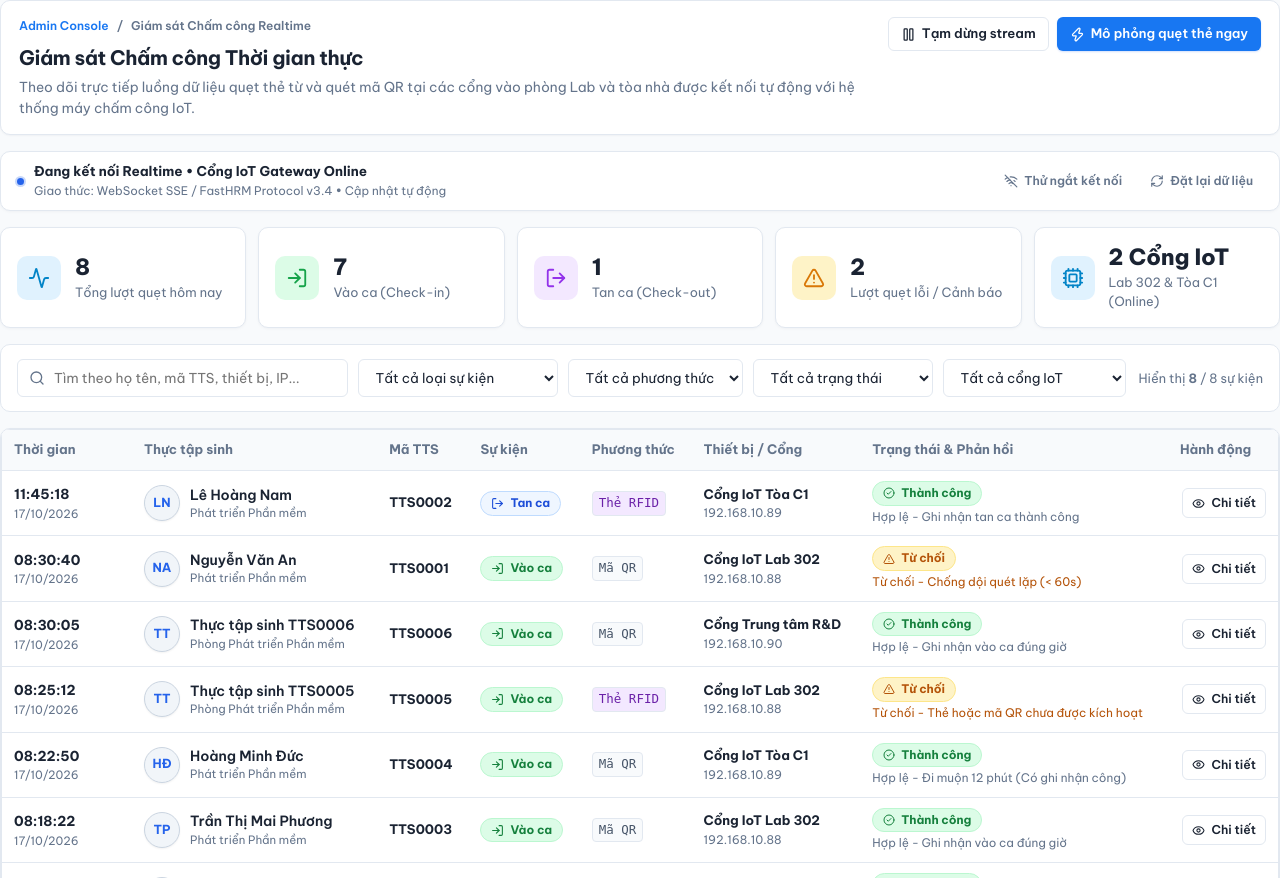
Test case: RealtimeAttendanceMonitorPage - Màn hình Giám sát Chấm công Realtime › 8. Thao tác Tạm dừng và Tiếp tục nhận luồng sự kiện realtime
Bấm tạm dừng
Click the button with test id "toggle-pause-btn": point(968, 34) [888,17,1049,51]
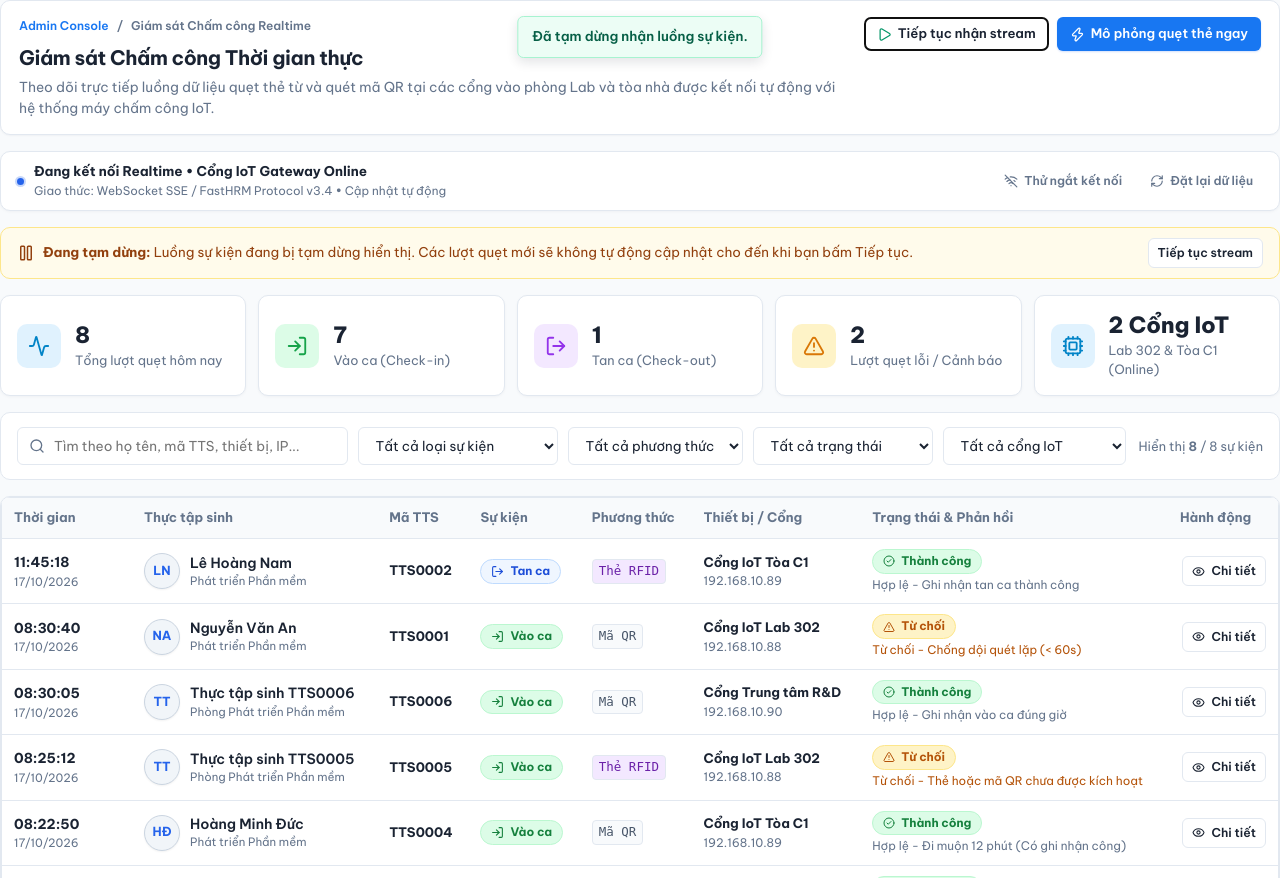
Result: the button with test id "toggle-pause-btn" reads "Tiếp tục nhận stream"
Result: the text "Đang tạm dừng:" is shown at [43,244,151,261]
Bấm tiếp tục
Click the button with test id "toggle-pause-btn": point(956, 34) [864,17,1049,51]
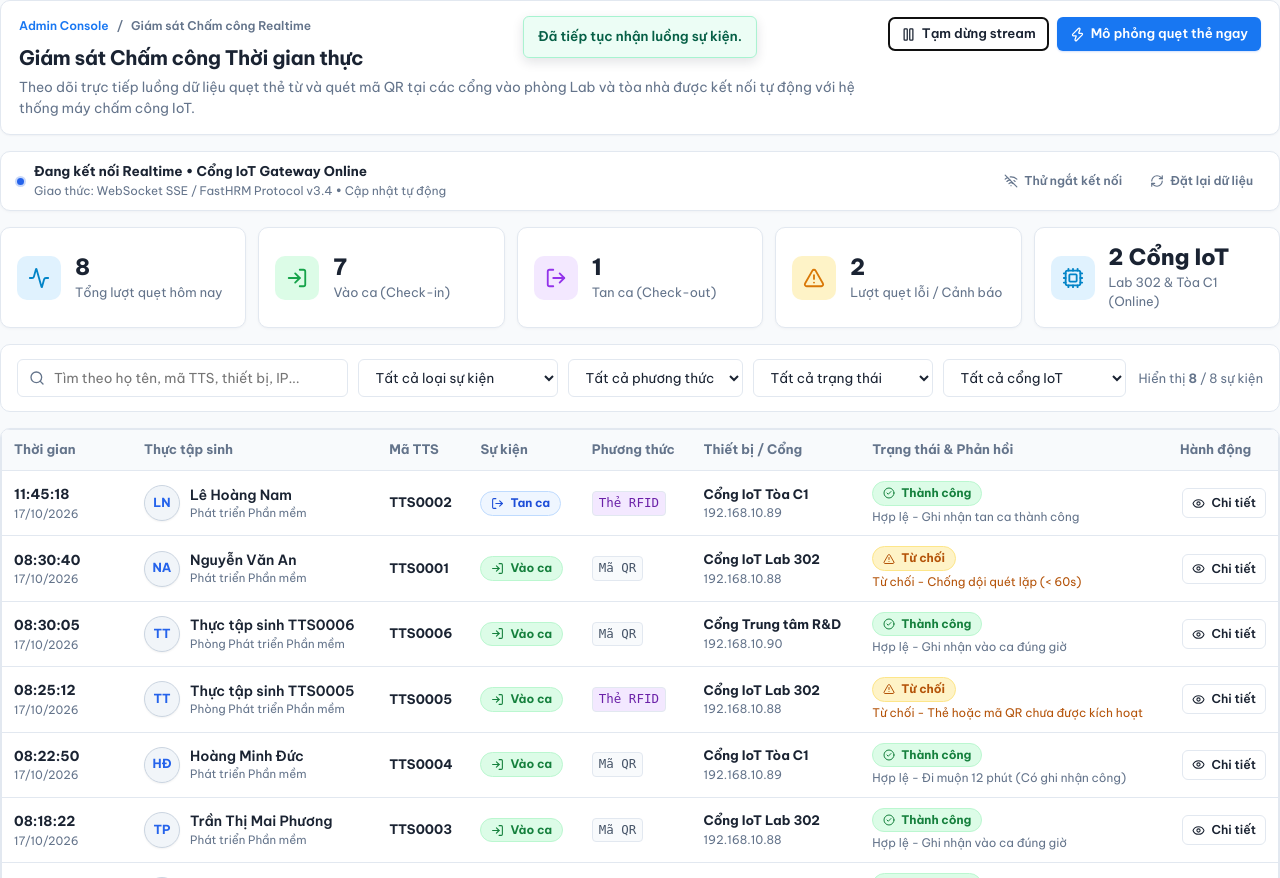
Result: the button with test id "toggle-pause-btn" reads "Tạm dừng stream" at [888,17,1049,51]
Result: the text "Đang tạm dừng:" is gone
